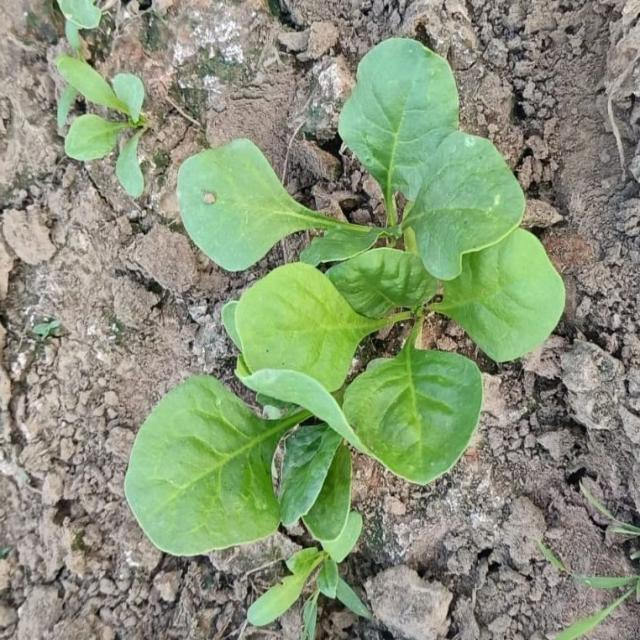plant: (125, 39, 565, 634)
